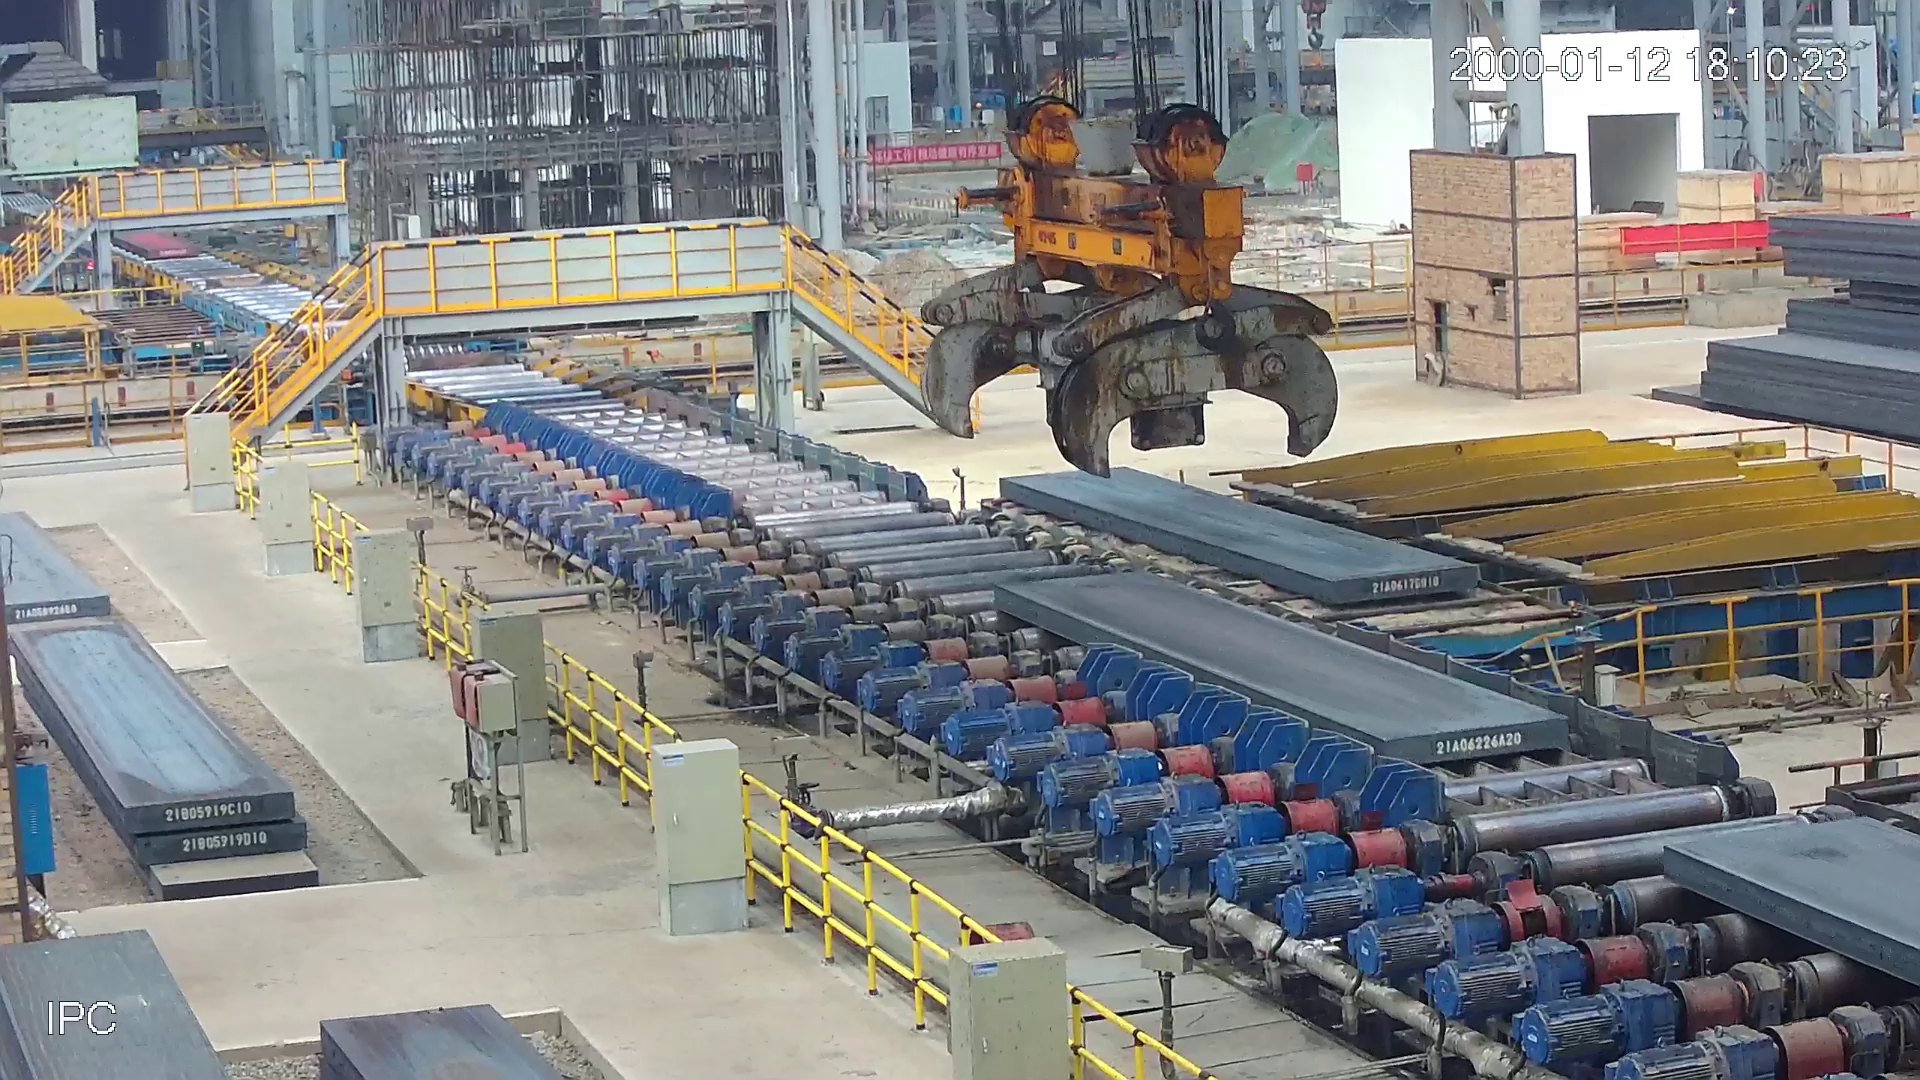crane: (903, 73, 1354, 496)
slab: (985, 564, 1580, 773), (992, 458, 1490, 611), (1659, 814, 1920, 996), (105, 225, 204, 264)
